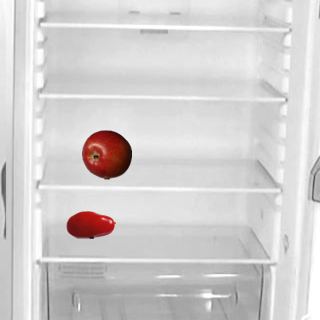Apple Braeburn: (81, 129, 131, 179)
Tomato 2: (65, 199, 115, 249)
